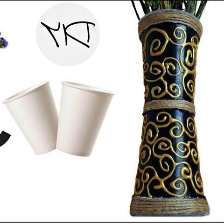glass: (52, 78, 120, 163), (0, 75, 65, 161)
